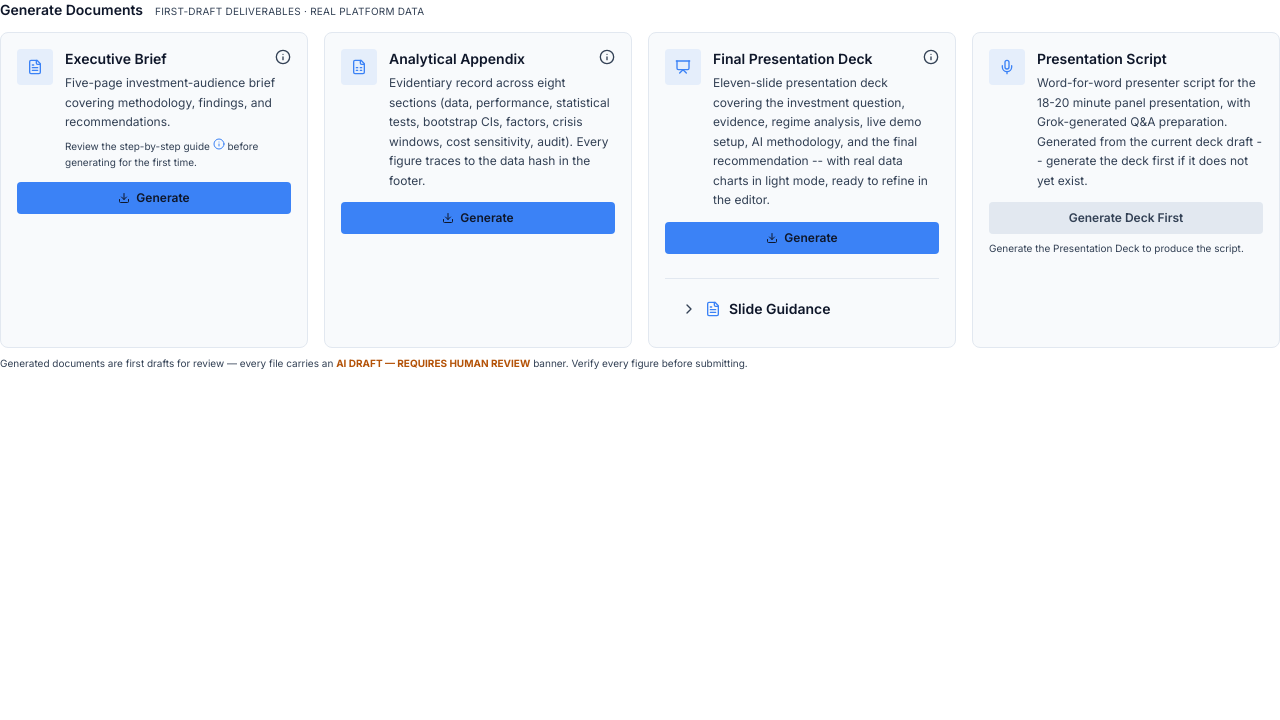
Scenario: DocumentGenerationPanel — Brief Workflow guide › clicking the Deck Info button opens the Deck workflow modal
The width and height of the screenshot is (1280, 720).
Click the button with test id "deck-workflow-info-button" at (931, 57), box [923,49,939,65]
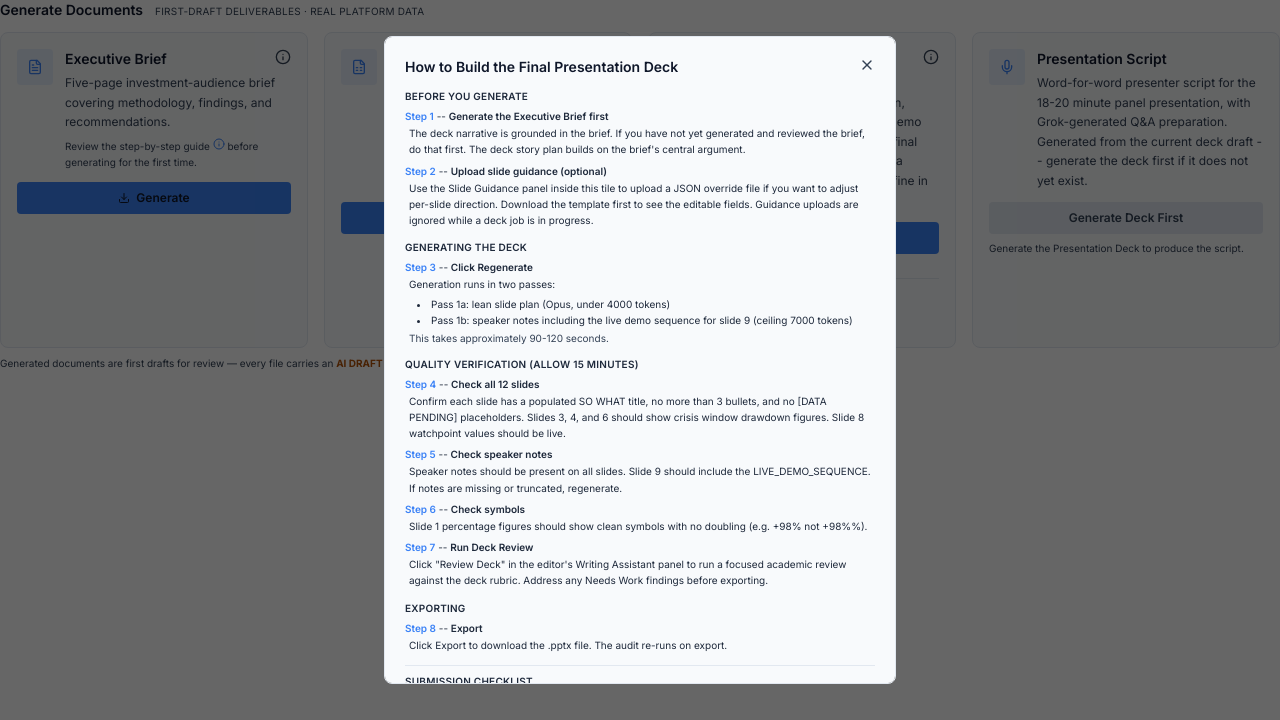
Expected: the element with test id "deck-workflow-modal" is shown
Expected: the heading "How to Build the Final Presentation Deck" is shown, [405,57,678,77]
